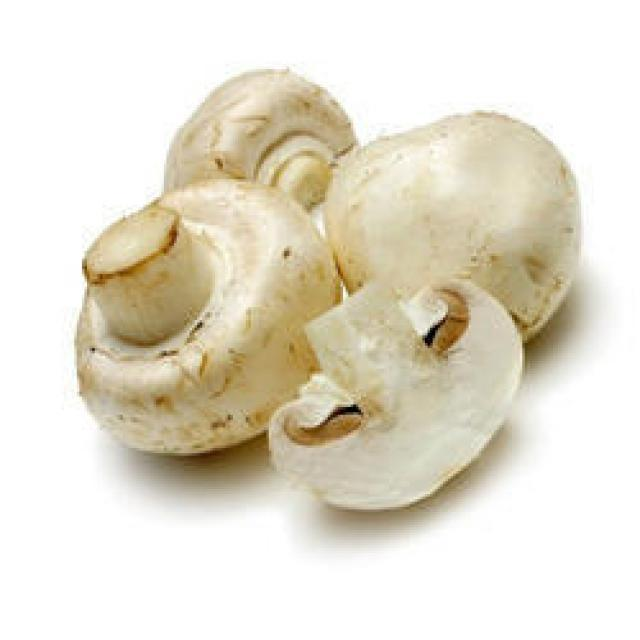Agaricus bisporus: (75, 180, 326, 454), (262, 279, 542, 512), (317, 114, 608, 335), (161, 70, 363, 212)
